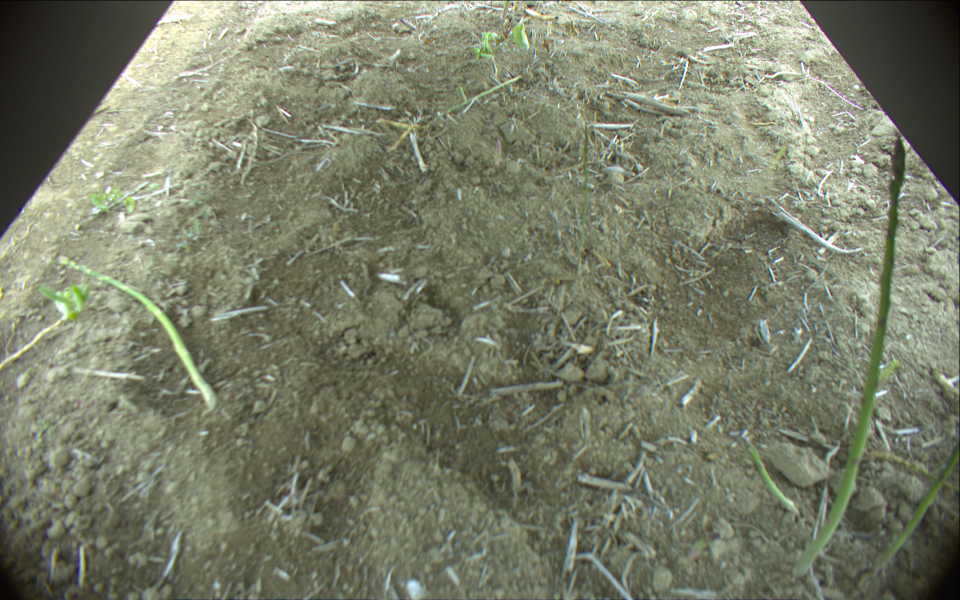aspa: (791, 137, 908, 582), (57, 256, 218, 406), (864, 434, 960, 579), (739, 432, 797, 516), (427, 73, 526, 120), (500, 1, 511, 19)
